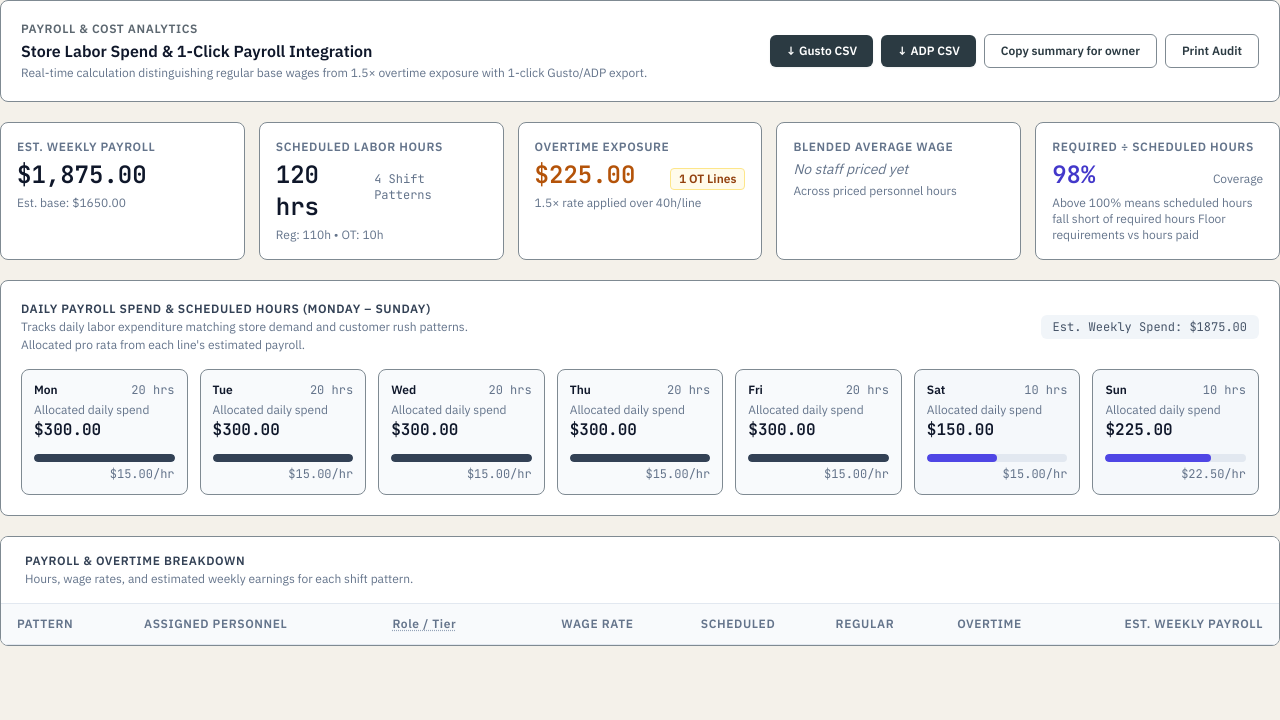
Scenario: sharing the labor summary with the owner › tells the manager to try printing instead when the clipboard is unavailable
The image size is (1280, 720).
Click the button "Copy summary for owner" at (1070, 51), box [984,34,1157,68]
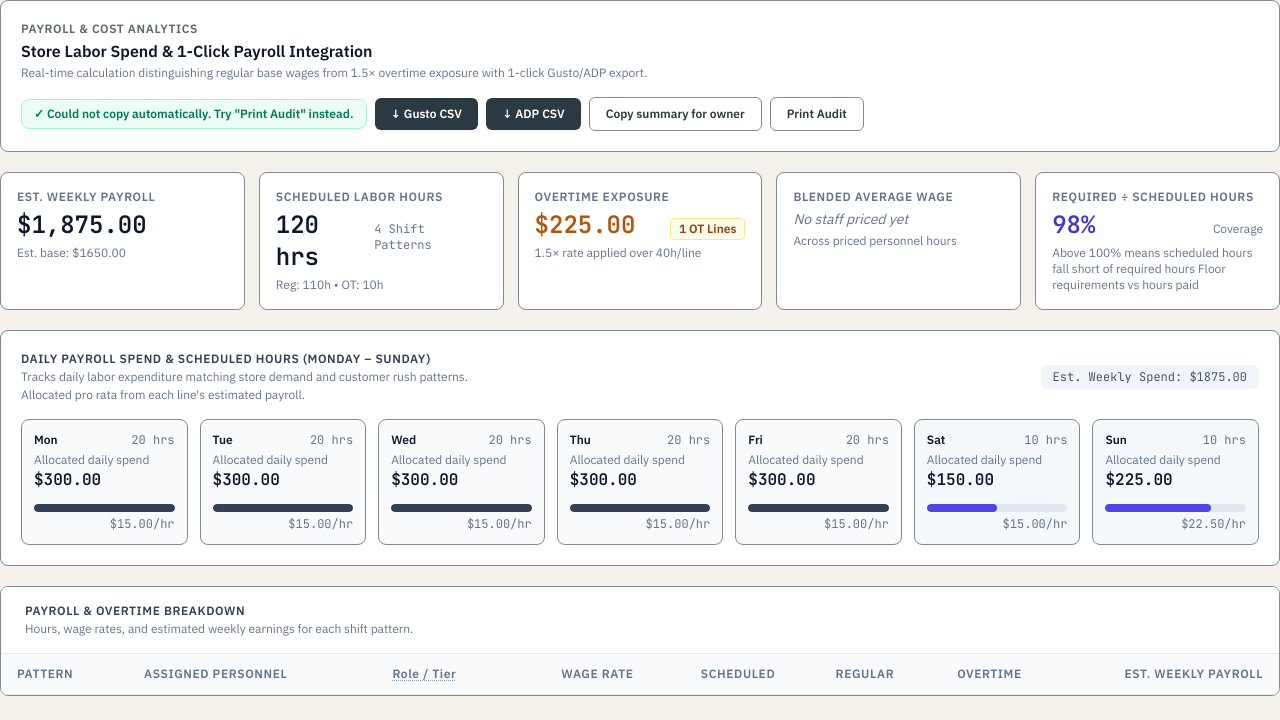
Expected: the text "✓ Could not copy automatically. Try \"Print Audit\" instead." is shown, [21,99,366,129]
